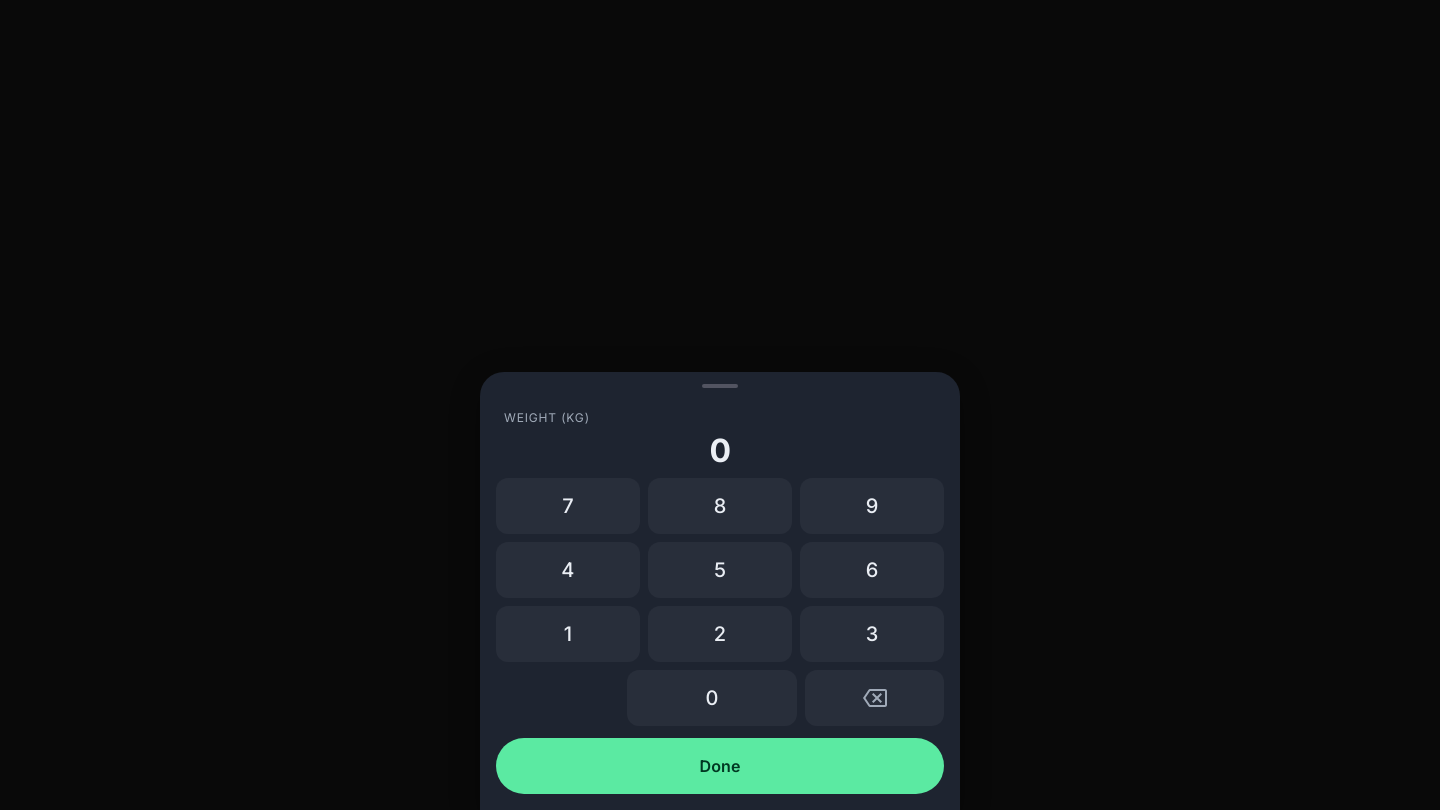
Test case: NumpadBottomSheet › appends digits when numpad buttons are pressed
// Press "1", "2", "5"
What coordinates should you click on to do the following:
click the button "1"
I would click on:
 (568, 634)
Its box is [496,606,640,662].
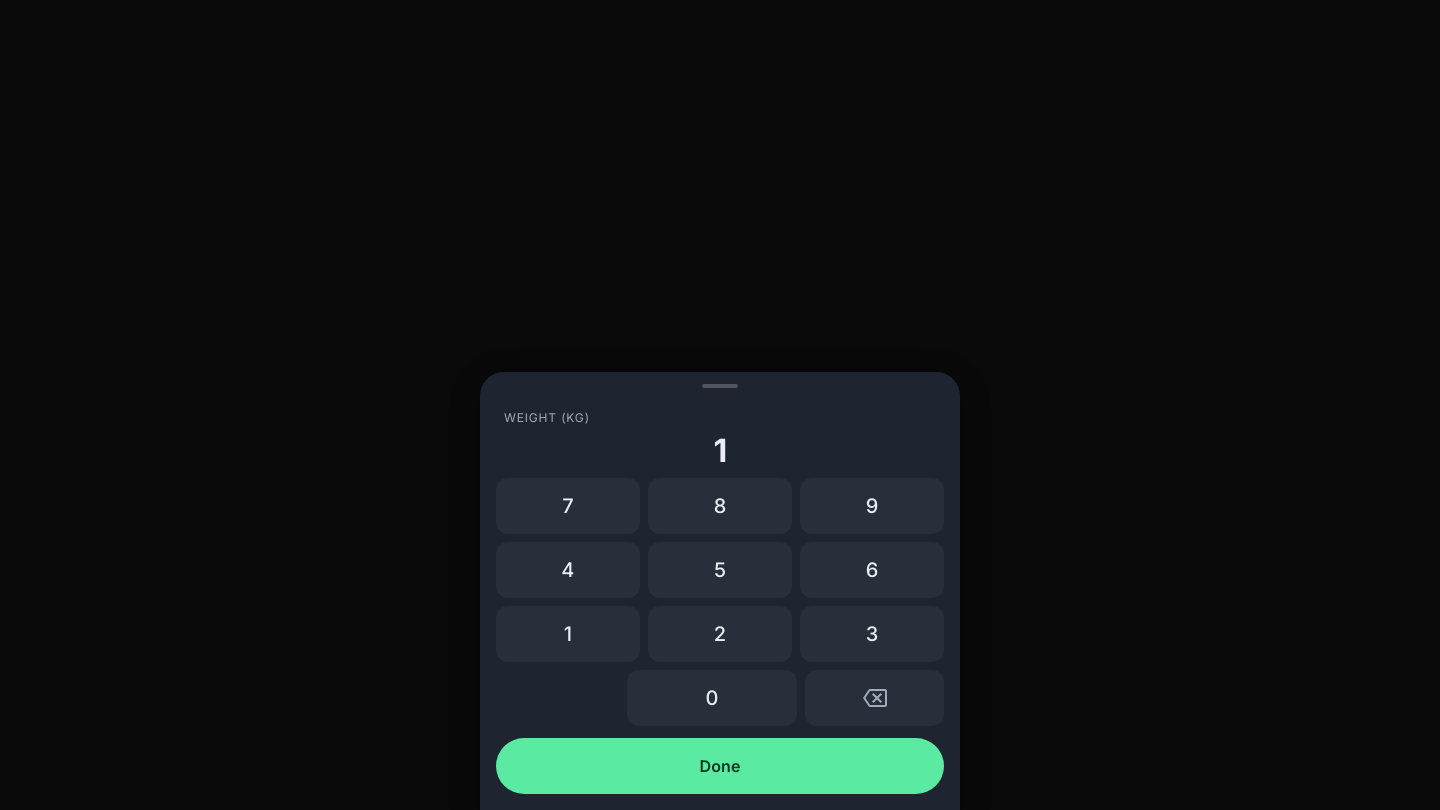
What coordinates should you click on to do the following:
click the button "2"
I would click on:
 (720, 634)
Its box is [648,606,792,662].
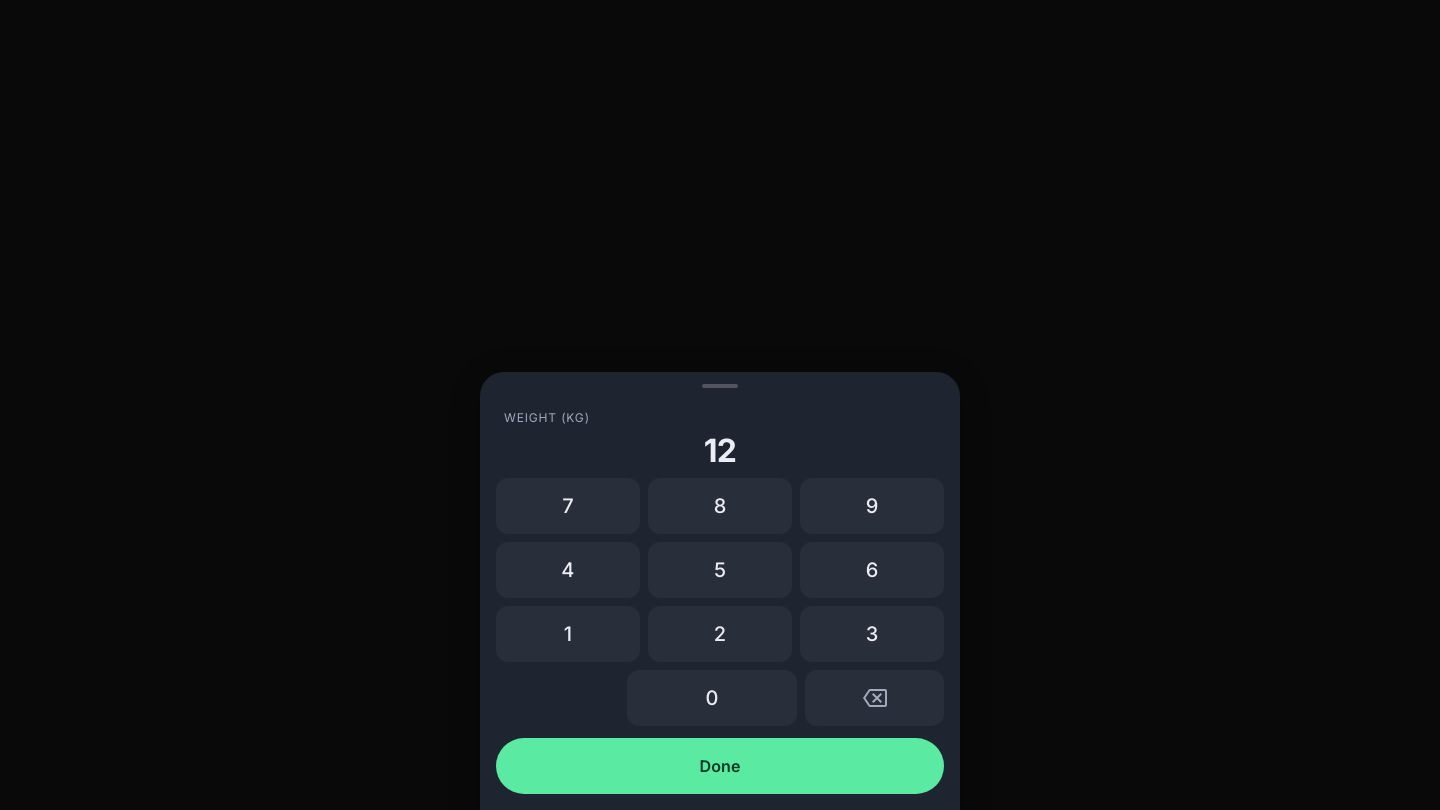
What coordinates should you click on to do the following:
click the button "5"
I would click on:
 (720, 570)
Its box is [648,542,792,598].
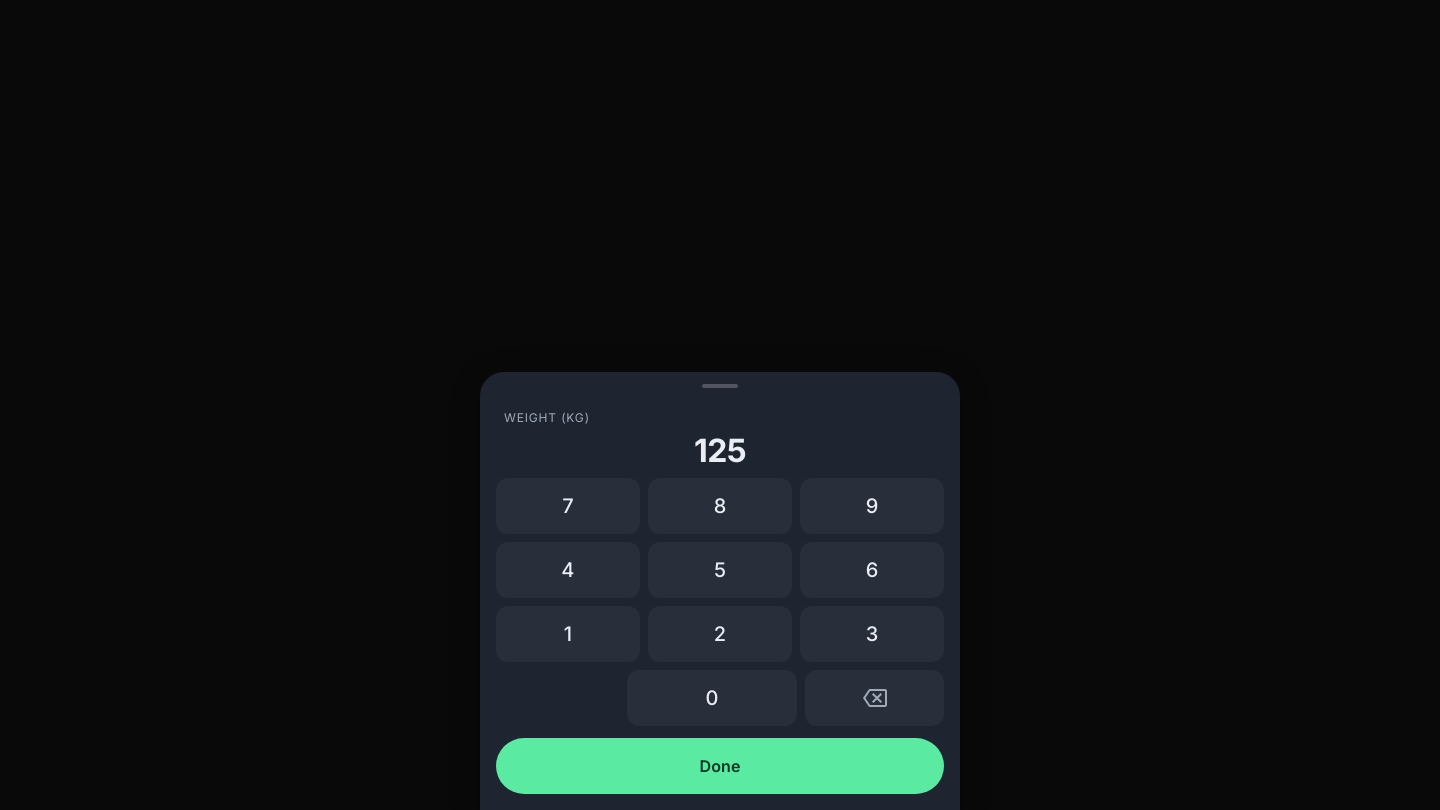
Check: the heading "125" is shown, box [694,431,746,470]
